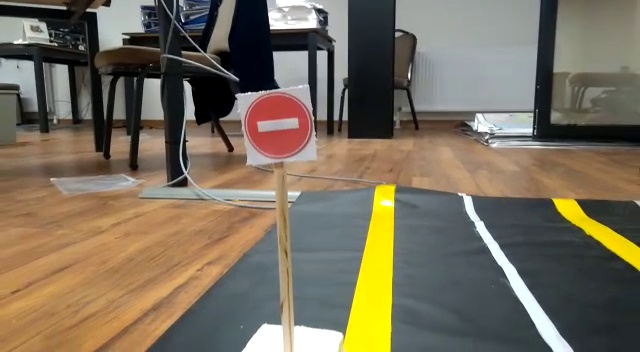girisi_olmayan_yol: (240, 92, 316, 159)
